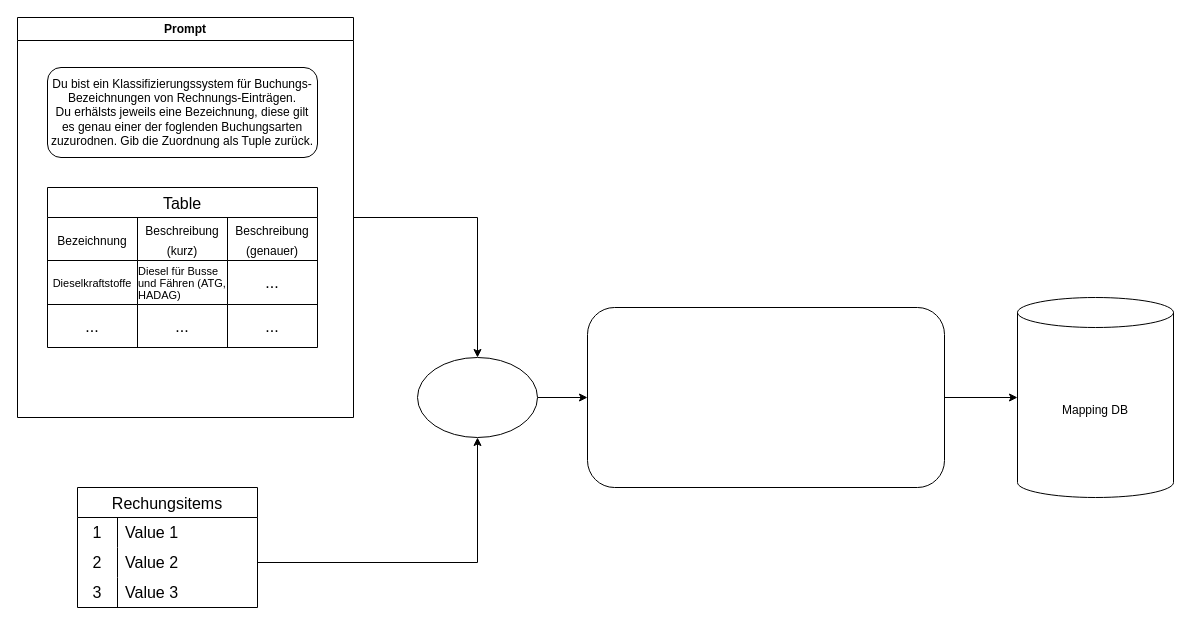
This 1191x625 diagram has some shape labels left out. The shapes that lost their labels are listed below. From the top down, each one's centre as x and y in pixels, then its label:
(x=477, y=397): concat
(x=765, y=397): LLM Service
